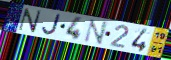2: (108, 24, 130, 49)
4: (64, 15, 84, 42), (130, 27, 149, 53)
J: (41, 13, 62, 36)
N: (82, 19, 110, 46), (16, 7, 43, 34)
